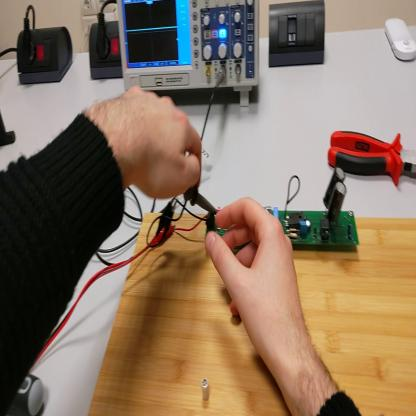hand: (207, 198, 313, 398), (101, 85, 204, 202)
high voltage board: (176, 167, 363, 252)
oscilloscope: (118, 2, 262, 108)
oscilloscope probe tip: (183, 184, 221, 218)
pliers: (330, 122, 416, 192)
screwdriver-: (11, 366, 46, 415)
socket: (18, 27, 74, 90), (89, 19, 124, 82)
working area: (90, 211, 416, 415)
